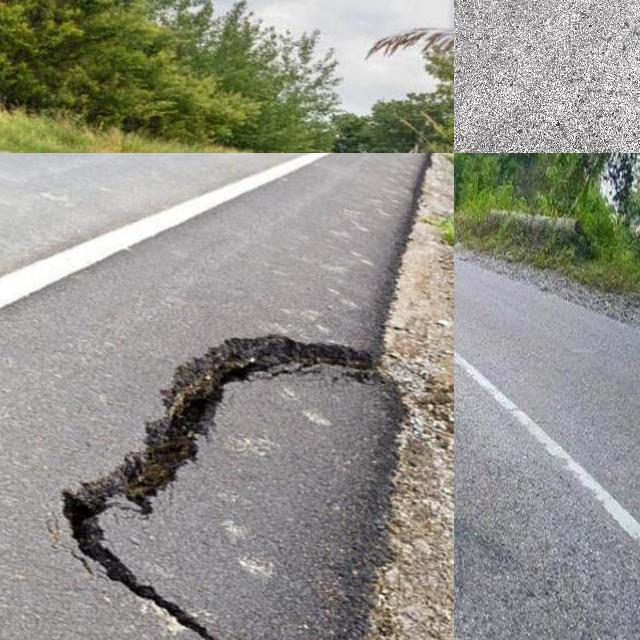Pinggir: (18, 299, 440, 640)
